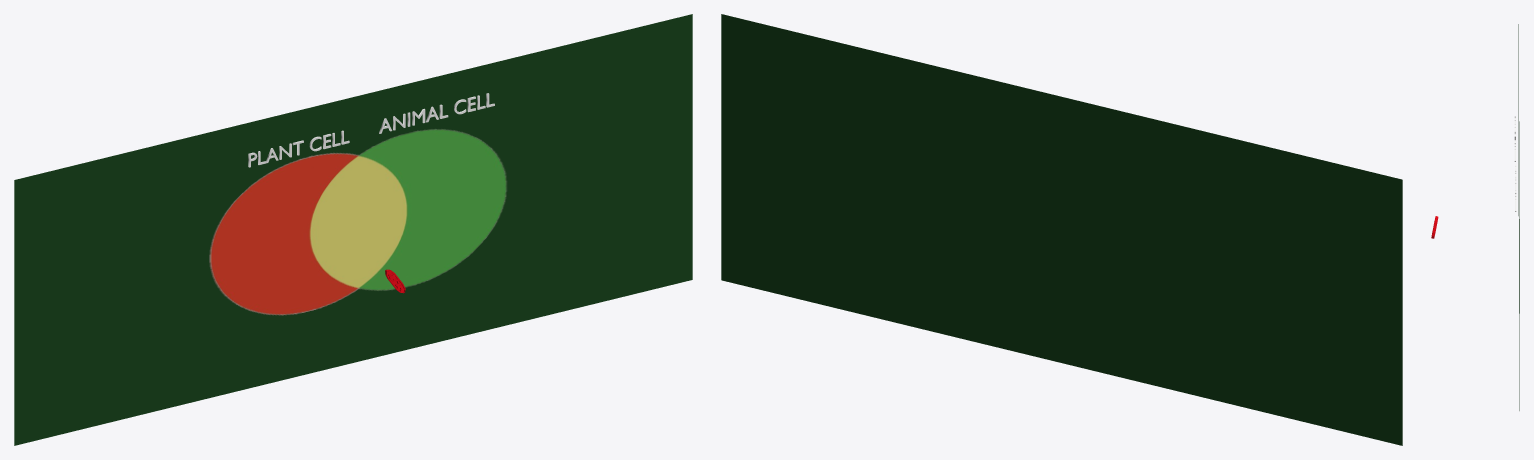
Rendered from power.gltf.
3 renders of one model, left to right at view 1: azimuth 30°, elevation 25°; view 2: azimuth 150°, elevation 25°; view 3: azimuth 270°, elevation 25°, orthographic. The views are drawn at different scales.
Parts seen in each view (by area): view 1: Plane.039, Plane.013, Text.009, Text.008; view 2: Plane.013; view 3: Plane.013.
Part boxes in pixels (x1,y1,x2,y2): Plane.039: [132, 44, 585, 413]; Plane.013: [14, 14, 692, 445]; Text.009: [379, 93, 494, 133]; Text.008: [248, 130, 349, 167]; Plane.013: [721, 14, 1402, 445]; Plane.013: [1518, 24, 1519, 410].
Size of the model in its own units: 15.94 by 5.96 by 2.48.
Materials: 5 (1 with a texture image).
